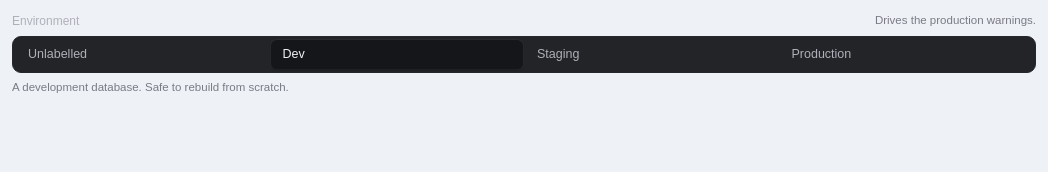
Scenario: choosing another one › explains the new environment straight away
Click the radio button labelled "Staging" at (651, 54), box [525, 40, 778, 69]
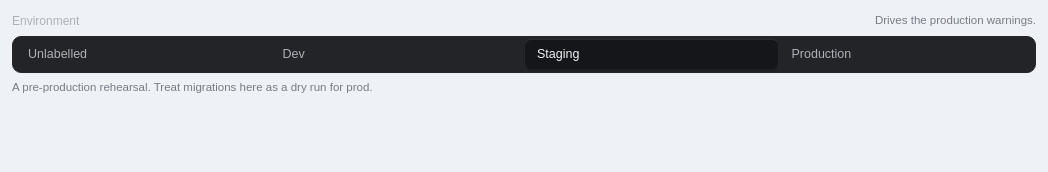
Expected: the text "A pre-production rehearsal. Treat migrations here as a dry run for prod." is shown, [12, 81, 372, 93]
